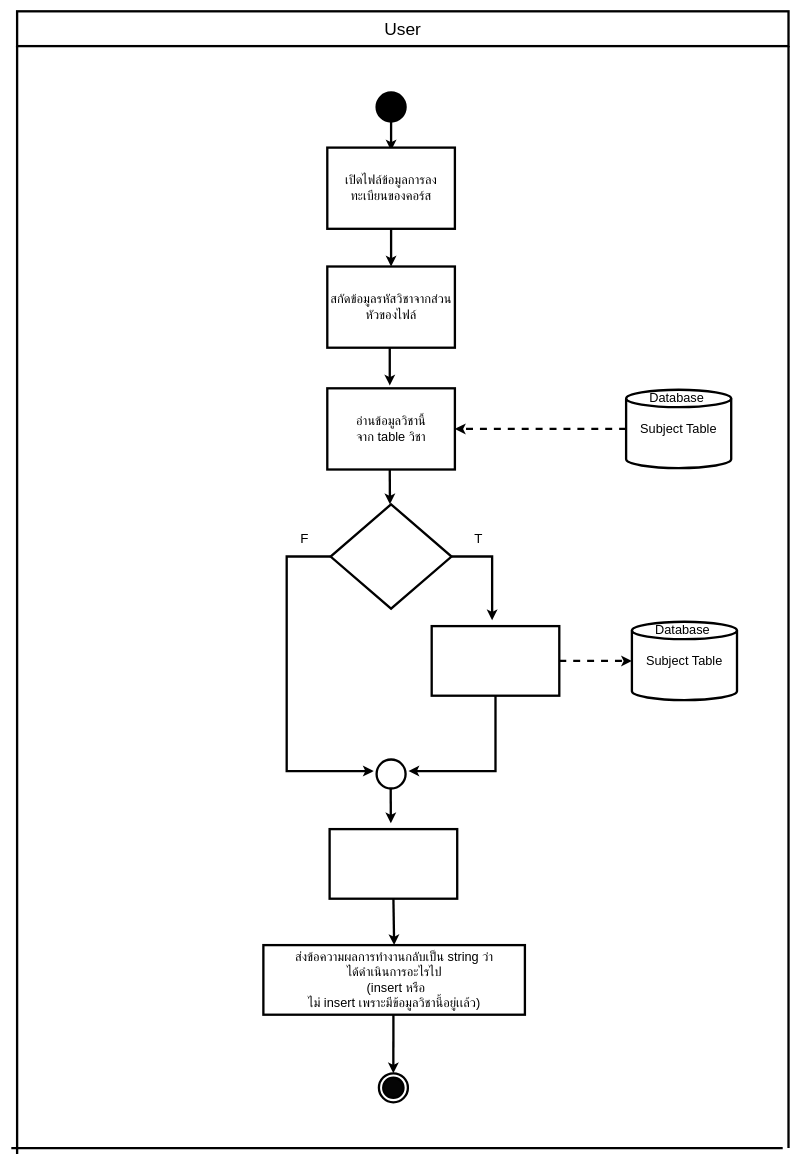
Image size: 800x1165. Some labels were removed from this diagram. Each missing label, with the centre of its shape:
"insert ข้อมูลวิชานี้เข้าฐานข้อมูล" belongs at (495,661).
"บันทึก activity ที่ทำเข้า log file" belongs at (393,864).
"ไม่มีรหัสวิชานี้ ในฐานข้อมูล" belongs at (390,556).
